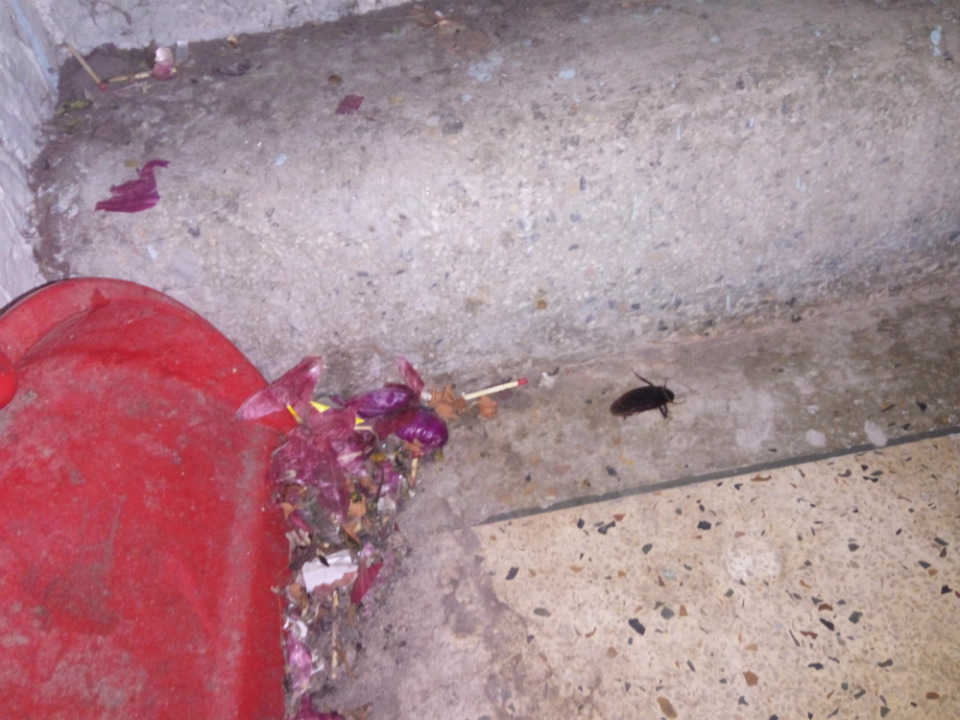cockroach: (573, 353, 706, 436)
